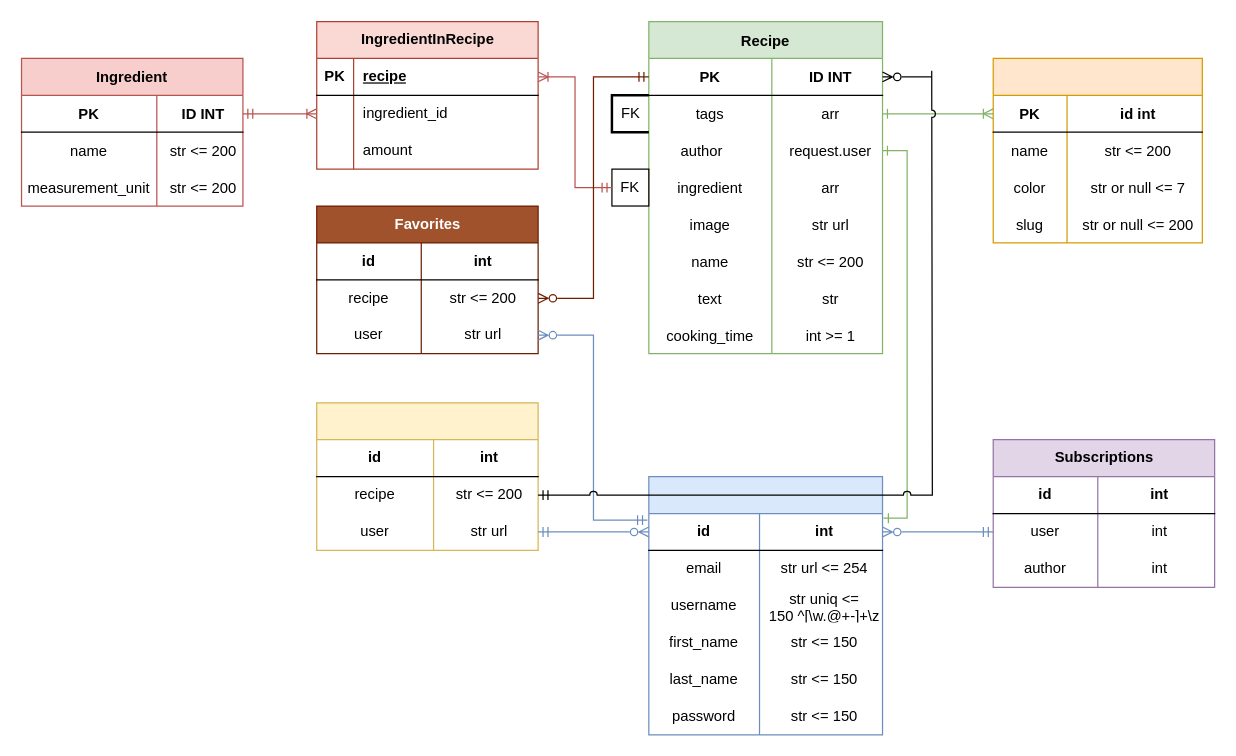
This 1236x756 diagram has some shape labels left out. Here are the shapes that lost their labels. From the top down, the box of each, then its label:
(992, 57, 1202, 243): Tag
(315, 402, 538, 550): Shoping_cart
(648, 475, 883, 735): Users
